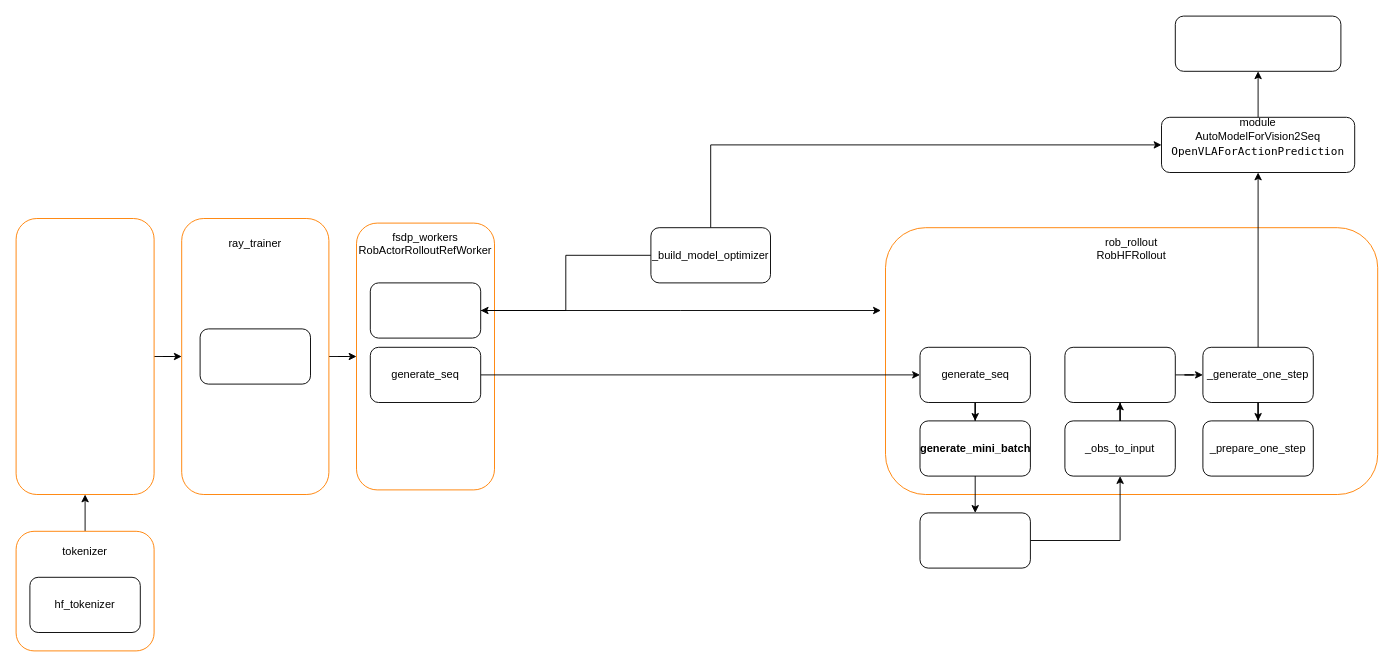
Image size: 1394x667. Some labels were removed from this diagram. Each missing label, with the centre of its shape:
"_build_rollout" goes at [425,310].
"_validate/fit" goes at [254,356].
"env_worker" goes at [974,540].
"generate_action_verl" goes at [1257,43].
"main_ppo" goes at [84,356].
"process_input" goes at [1119,374].
